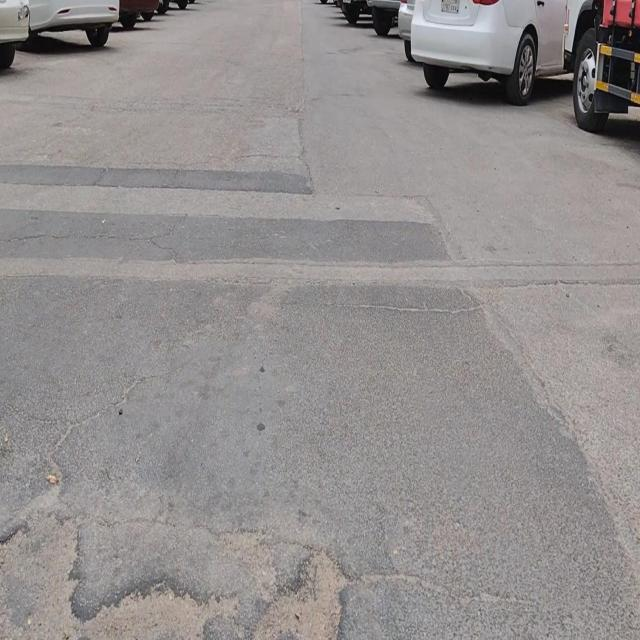Potholes: (249, 544, 351, 640)
